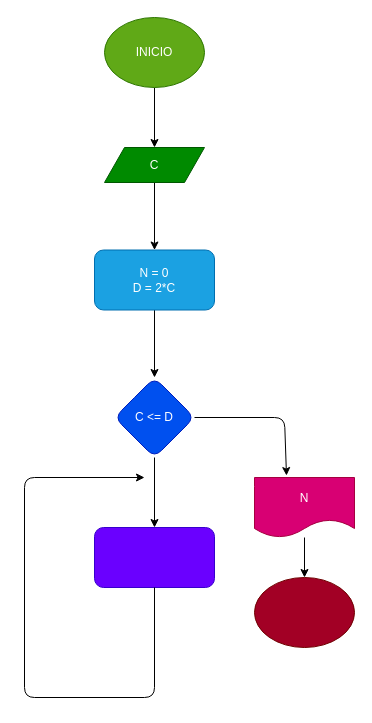
The diagram is 372 pixels wide and 723 high, and some of its shapes have lost their labels. The centre of each missing label's shape, as x and y in pixels:
C = 1.05*C N = N+1: the point at 154,557
FIN: the point at 304,612
